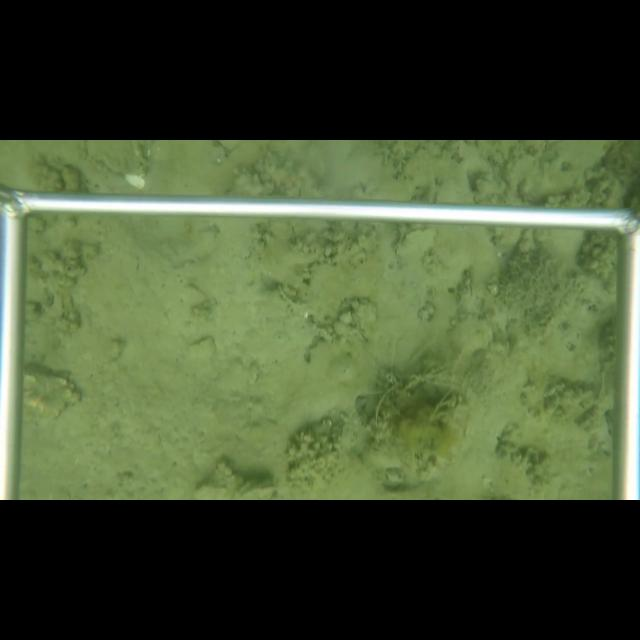Oyster-Closed: (392, 225, 441, 261)
